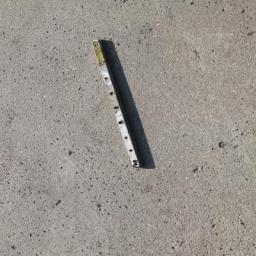FOD: (89, 37, 156, 172)
